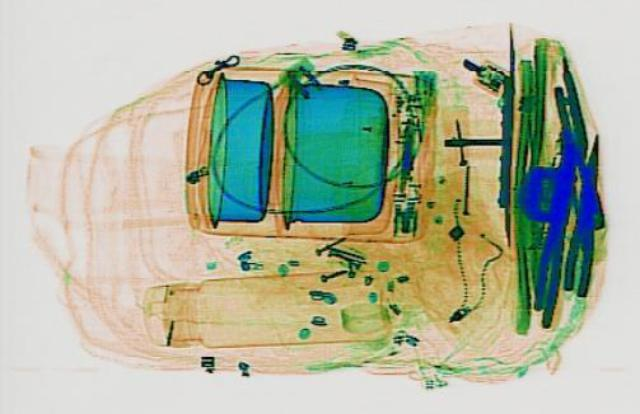Pliers: (520, 144, 584, 323), (557, 132, 611, 296)
